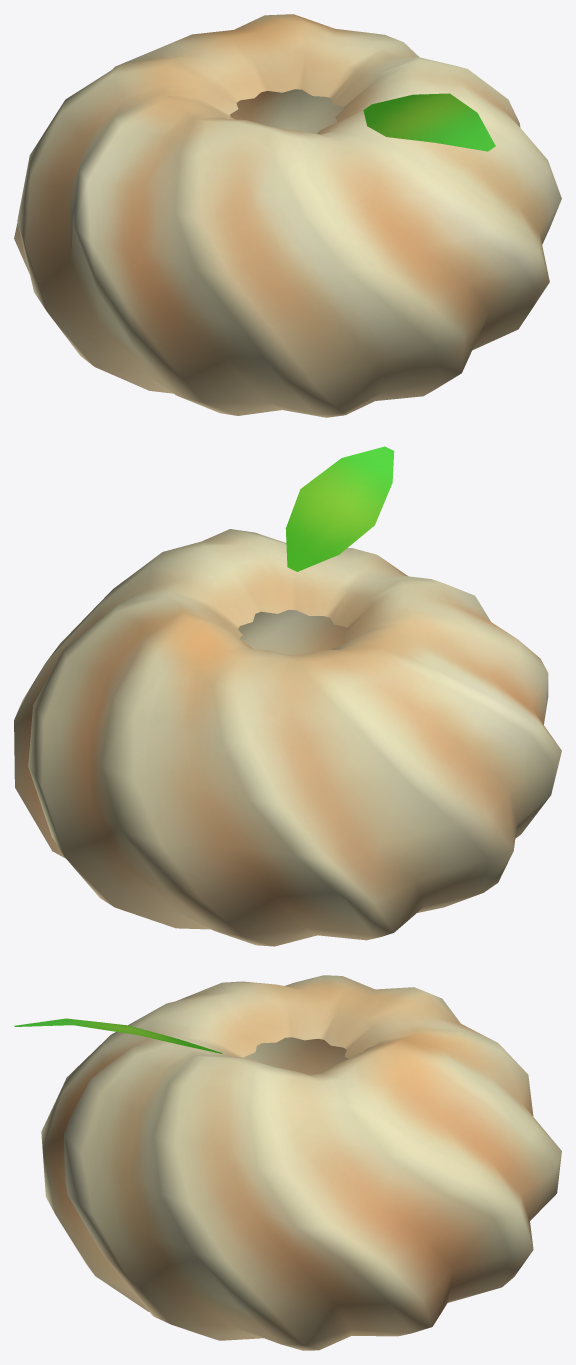
The model's file is whip.glb.
3 renders of one model, top to bottom at view 1: azimuth 30°, elevation 25°; view 2: azimuth 150°, elevation 25°; view 3: azimuth 270°, elevation 25°, orthographic. The views are drawn at different scales.
Visible parts, largest first — view 1: Object_2, Object_3; view 2: Object_2, Object_3; view 3: Object_2, Object_3.
Boxes of the visible parts, x1,y1,x2,y2 form: Object_2: (14, 14, 561, 417); Object_3: (363, 93, 495, 151); Object_2: (14, 529, 561, 946); Object_3: (285, 446, 394, 571); Object_2: (41, 975, 561, 1350); Object_3: (14, 1018, 222, 1053).
Bounding box in the file's own units: 1.55 × 1.05 × 1.66.
Materials: 2 (2 with a texture image).
